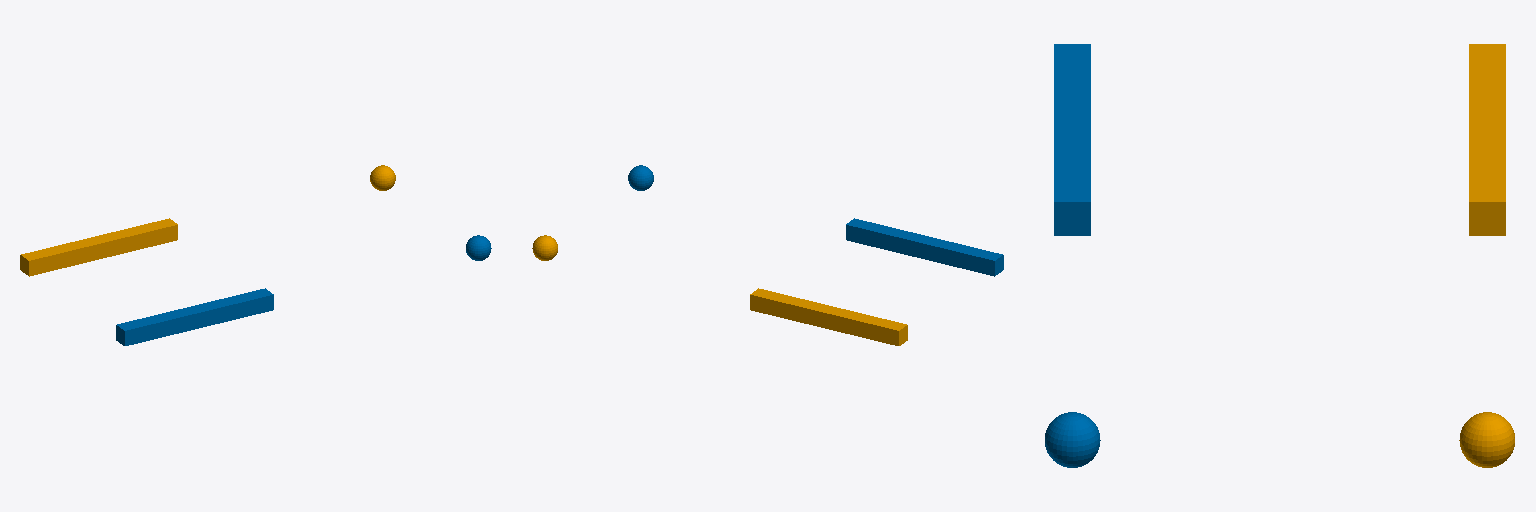
The robot description file, URDF, robot "mini_cheetah":
<?xml version="1.0" ?>
<robot name="mini_cheetah" xmlns:xacro="http://ros.org/wiki/xacro">
    <link name="body">
        <inertial>
            <mass value="3.3"/>
            <origin xyz="0.0 0.0 0.0"/>
            <inertia ixx="0.011253" ixy="0" ixz="0" iyy="0.036203" iyz="0" izz="0.042673"/>
        </inertial>
        <visual>
            <geometry>
                <mesh filename="meshes/mini_body.obj"/>
            </geometry>
            <origin rpy="0.0 0.0 0.0" xyz="0.0 0.0 0.0"/>
        </visual>
        <collision>
            <geometry>
                <mesh filename="meshes/mini_body.obj"/>
            </geometry>
            <origin rpy="0 0 0" xyz="0 0 0"/>
        </collision>
    </link>

    <!--!!!!!!!!!!!! Front Right Leg !!!!!!!!!!!!!!!!!!!!!!!!!!!!!!!!!!!!-->
    <joint name="torso_to_abduct_fr_j" type="continuous">
        <axis xyz="1 0 0"/>
        <origin rpy="0 0 0" xyz="0.19 -0.049 0.0"/>
        <parent link="body"/>
        <child link="abduct_fr"/>
    </joint>
    <link name="abduct_fr">
        <inertial>
            <mass value="0.54"/>
            <origin xyz="0.0 0.036 0."/>
            <inertia ixx="0.000381" ixy="0.000058" ixz="0.00000045" 
                iyy="0.000560" iyz="0.00000095" izz="0.000444"/>
        </inertial>
        <visual>
            <geometry>
                <mesh filename="meshes/mini_abad.obj"/>
            </geometry>
            <origin rpy="3.141592 0.0 1.5708" xyz="-0.055 0.0 0.0"/>
        </visual>
        <collision>
            <geometry>
                <mesh filename="meshes/mini_abad.obj"/>
            </geometry>
            <origin rpy="3.141592 0 1.5708" xyz="-0.055 0 0"/>
        </collision>
    </link>

    <joint name="abduct_fr_to_thigh_fr_j" type="continuous">
        <axis xyz="0 -1 0"/>
        <origin rpy="0.0 0.0 0.0" xyz="0.0 -0.062 0.00"/>
        <parent link="abduct_fr"/>
        <child link="thigh_fr"/>
    </joint>
    <link name="thigh_fr">
        <inertial>
            <mass value="0.634"/>
            <origin xyz="0.0 0.016 -0.02"/>
            <inertia ixx="0.001983" ixy="0.000245" ixz="0.000013" 
                iyy="0.002103" iyz="0.0000015" izz="0.000408"/>
        </inertial>
        <visual>
            <geometry>
                <mesh filename="meshes/mini_upper_link.obj"/>
            </geometry>
            <origin rpy="0.0 -1.5708 0.0" xyz="0.0 0.0 0.0"/>
        </visual>
        <collision>
            <geometry>
                <mesh filename="meshes/mini_upper_link.obj"/>
            </geometry>
            <origin rpy="0 -1.5708 0" xyz="0 0 0"/>
        </collision>
    </link>

    <joint name="thigh_fr_to_knee_fr_j" type="continuous">
        <axis xyz="0 -1 0"/>
        <origin rpy="0.0 0 0.0" xyz="0.0 0.0 -0.209"/>
        <parent link="thigh_fr"/>
        <child link="shank_fr"/>
    </joint>
    <link name="shank_fr">
        <inertial>
            <mass value="0.064"/>
            <origin xyz="0.0 0.0 -0.209"/>
            <inertia ixx="0.000245" ixy="0" ixz="0.0" iyy="0.000248" iyz="0" izz="0.000006"/>
        </inertial>
        <visual>
            <geometry>
                <mesh filename="meshes/mini_lower_link.obj"/>
            </geometry>
            <origin rpy="0.0 3.141592 0.0" xyz="0.0 0.0 0.0"/>
        </visual>
        <collision>
            <geometry>
                <mesh filename="meshes/mini_lower_link.obj"/>
            </geometry>
            <origin rpy="0 3.141592 0" xyz="0 0 0"/>
        </collision>
    </link>
    <link name="toe_fr">
    <contact>
      <friction_anchor/>
      <stiffness value="30000.0"/>
      <damping value="1000.0"/>
      <spinning_friction value="0.3"/>
      <lateral_friction value="3.0"/>
    </contact>
    <visual>
      <origin rpy="0 0 0" xyz="0 0 0"/>
      <geometry>
        <sphere radius="0.015"/>
      </geometry>
      <material name="darkgray"/>
    </visual>
    <collision>
      <origin rpy="0 0 0" xyz="0 0 0"/>
      <geometry>
        <sphere radius="0.015"/>
      </geometry>
    </collision>
    <inertial>
      <mass value="0.15"/>
      <inertia ixx="0.000025" ixy="0" ixz="0" iyy="0.000025" iyz="0" izz="0.000025"/>
    </inertial>
  </link>
  <joint name="toe_fr_joint" type="fixed">
    <parent link="shank_fr"/>
    <child link="toe_fr"/>
    <origin xyz="0 0 -0.18"/>
    <dynamics damping="0.0" friction="0.0"/>
  </joint>

 
<!--!!!!!!!!!!!! Front Left Leg !!!!!!!!!!!!!!!!!!!!!!!!!!!!!!!!!!!!-->
    <joint name="torso_to_abduct_fl_j" type="continuous">
        <axis xyz="1 0 0"/>
        <origin rpy="0 0 0" xyz="0.19 0.049 0.0"/>
        <parent link="body"/>
        <child link="abduct_fl"/>
    </joint>
    <link name="abduct_fl">
        <inertial>
            <mass value="0.54"/>
            <origin xyz="0.0 0.036 0."/>
            <inertia ixx="0.000381" ixy="0.000058" ixz="0.00000045" 
                iyy="0.000560" iyz="0.00000095" izz="0.000444"/>
        </inertial>
        <visual>
            <geometry>
                <mesh filename="meshes/mini_abad.obj"/>
            </geometry>
            <origin rpy="0. 0. -1.5708" xyz="-0.055 0.0 0.0"/>
        </visual>
        <collision>
            <geometry>
                <mesh filename="meshes/mini_abad.obj"/>
            </geometry>
            <origin rpy="0 0 -1.5708" xyz="-0.055 0 0"/>
        </collision>
    </link>

    <joint name="abduct_fl_to_thigh_fl_j" type="continuous">
        <axis xyz="0 -1 0"/>
        <origin rpy="0.0 0.0 0.0" xyz="0.0 0.062 0.00"/>
        <parent link="abduct_fl"/>
        <child link="thigh_fl"/>
    </joint>
    <link name="thigh_fl">
        <inertial>
            <mass value="0.634"/>
            <origin xyz="0.0 0.016 -0.02"/>
            <inertia ixx="0.001983" ixy="0.000245" ixz="0.000013" 
                iyy="0.002103" iyz="0.0000015" izz="0.000408"/>
        </inertial>
        <visual>
            <geometry>
                <mesh filename="meshes/mini_upper_link.obj"/>
            </geometry>
            <origin rpy="0.0 -1.5708 0.0" xyz="0.0 0.0 0.0"/>
        </visual>
        <collision>
            <geometry>
                <mesh filename="meshes/mini_upper_link.obj"/>
            </geometry>
            <origin rpy="0 -1.5708 0" xyz="0 0 0"/>
        </collision>
    </link>

    <joint name="thigh_fl_to_knee_fl_j" type="continuous">
        <axis xyz="0 -1 0"/>
        <origin rpy="0.0 0 0.0" xyz="0.0 0.0 -0.209"/>
        <parent link="thigh_fl"/>
        <child link="shank_fl"/>
    </joint>
    <link name="shank_fl">
        <inertial>
            <mass value="0.064"/>
            <origin xyz="0.0 0.0 -0.209"/>
            <inertia ixx="0.000245" ixy="0" ixz="0.0" iyy="0.000248" iyz="0" izz="0.000006"/>
        </inertial>
        <visual>
            <geometry>
                <mesh filename="meshes/mini_lower_link.obj"/>
            </geometry>
            <origin rpy="0.0 3.141592 0.0" xyz="0.0 0.0 0.0"/>
        </visual>
        <collision>
            <geometry>
                <mesh filename="meshes/mini_lower_link.obj"/>
            </geometry>
            <origin rpy="0 3.141592 0" xyz="0 0 0"/>
        </collision>
    </link>
    <link name="toe_fl">
      <contact>
      <friction_anchor/>
      <stiffness value="30000.0"/>
      <damping value="1000.0"/>
      <spinning_friction value="0.3"/>
      <lateral_friction value="3.0"/>
    </contact>
    <visual>
      <origin rpy="0 0 0" xyz="0 0 0"/>
      <geometry>
        <sphere radius="0.015"/>
      </geometry>
      <material name="darkgray"/>
    </visual>
    <collision>
      <origin rpy="0 0 0" xyz="0 0 0"/>
      <geometry>
        <sphere radius="0.015"/>
      </geometry>
    </collision>
    <inertial>
      <mass value="0.15"/>
      <inertia ixx="0.000025" ixy="0" ixz="0" iyy="0.000025" iyz="0" izz="0.000025"/>
    </inertial>
  </link>
  <joint name="toe_fl_joint" type="fixed">
    <parent link="shank_fl"/>
    <child link="toe_fl"/>
    <origin xyz="0 0 -0.18"/>
    <dynamics damping="0.0" friction="0.0"/>
  </joint>


<!--!!!!!!!!!!!! Hind Right Leg !!!!!!!!!!!!!!!!!!!!!!!!!!!!!!!!!!!!-->
    <joint name="torso_to_abduct_hr_j" type="continuous">
        <axis xyz="1 0 0"/>
        <origin rpy="0 0 0" xyz="-0.19 -0.049 0.0"/>
        <parent link="body"/>
        <child link="abduct_hr"/>
    </joint>
    <link name="abduct_hr">
        <inertial>
            <mass value="0.54"/>
            <origin xyz="0.0 0.036 0."/>
            <inertia ixx="0.000381" ixy="0.000058" ixz="0.00000045" 
                iyy="0.000560" iyz="0.00000095" izz="0.000444"/>
        </inertial>
        <visual>
            <geometry>
                <mesh filename="meshes/mini_abad.obj"/>
            </geometry>
            <origin rpy="0.0 0.0 1.5708" xyz="0.055 0.0 0.0"/>
        </visual>
        <collision>
            <geometry>
                <mesh filename="meshes/mini_abad.obj"/>
            </geometry>
            <origin rpy="0 0 1.5708" xyz="0.055 0 0"/>
        </collision>
    </link>

    <joint name="abduct_hr_to_thigh_hr_j" type="continuous">
        <axis xyz="0 -1 0"/>
        <origin rpy="0.0 0.0 0.0" xyz="0.0 -0.062 0.00"/>
        <parent link="abduct_hr"/>
        <child link="thigh_hr"/>
    </joint>
    <link name="thigh_hr">
        <inertial>
            <mass value="0.634"/>
            <origin xyz="0.0 0.016 -0.02"/>
            <inertia ixx="0.001983" ixy="0.000245" ixz="0.000013" 
                iyy="0.002103" iyz="0.0000015" izz="0.000408"/>
        </inertial>
        <visual>
            <geometry>
                <mesh filename="meshes/mini_upper_link.obj"/>
            </geometry>
            <origin rpy="0.0 -1.5708 0.0" xyz="0.0 0.0 0.0"/>
        </visual>
        <collision>
            <geometry>
                <mesh filename="meshes/mini_upper_link.obj"/>
            </geometry>
            <origin rpy="0 -1.5708 0" xyz="0 0 0"/>
        </collision>
    </link>

    <joint name="thigh_hr_to_knee_hr_j" type="continuous">
        <axis xyz="0 -1 0"/>
        <origin rpy="0.0 0 0.0" xyz="0.0 0.0 -0.209"/>
        <parent link="thigh_hr"/>
        <child link="shank_hr"/>
    </joint>
    <link name="shank_hr">
        <inertial>
            <mass value="0.064"/>
            <origin xyz="0.0 0.0 -0.209"/>
            <inertia ixx="0.000245" ixy="0" ixz="0.0" iyy="0.000248" iyz="0" izz="0.000006"/>
        </inertial>
        <visual>
            <geometry>
                <mesh filename="meshes/mini_lower_link.obj"/>
            </geometry>
            <origin rpy="0.0 3.141592 0.0" xyz="0.0 0.0 0.0"/>
        </visual>
        <collision>
            <geometry>
                <mesh filename="meshes/mini_lower_link.obj"/>
            </geometry>
            <origin rpy="0 3.141592 0" xyz="0 0 0"/>
        </collision>
    </link>
     <link name="toe_hr">
      <contact>
      <friction_anchor/>
      <stiffness value="30000.0"/>
      <damping value="1000.0"/>
      <spinning_friction value="0.3"/>
      <lateral_friction value="3.0"/>
    </contact>
    <visual>
      <origin rpy="0 0 0" xyz="0 0 0"/>
      <geometry>
        <box size="0.20 0.02 0.02"/><!-- <sphere radius="0.015"/> -->
      </geometry>
      <material name="darkgray"/>
    </visual>
    <collision>
      <origin rpy="0 0 0" xyz="0 0 0"/>
      <geometry>
        <box size="0.20 0.02 0.02"/><!-- <sphere radius="0.015"/> -->
      </geometry>
    </collision>
    <inertial>
      <mass value="0.15"/>
      <inertia ixx="0.000025" ixy="0" ixz="0" iyy="0.000025" iyz="0" izz="0.000025"/>
    </inertial>
  </link>
  <joint name="toe_hr_joint" type="fixed">
    <parent link="shank_hr"/>
    <child link="toe_hr"/>
    <origin xyz="0 0 -0.18"/>
    <dynamics damping="0.0" friction="0.0"/>
  </joint>


<!--!!!!!!!!!!!! Hind Left Leg !!!!!!!!!!!!!!!!!!!!!!!!!!!!!!!!!!!!-->
    <joint name="torso_to_abduct_hl_j" type="continuous">
        <axis xyz="1 0 0"/>
        <origin rpy="0 0 0" xyz="-0.19 0.049 0.0"/>
        <parent link="body"/>
        <child link="abduct_hl"/>
    </joint>
    <link name="abduct_hl">
        <inertial>
            <mass value="0.54"/>
            <origin xyz="0.0 0.036 0."/>
            <inertia ixx="0.000381" ixy="0.000058" ixz="0.00000045" 
                iyy="0.000560" iyz="0.00000095" izz="0.000444"/>
        </inertial>
        <visual>
            <geometry>
                <mesh filename="meshes/mini_abad.obj"/>
            </geometry>
            <origin rpy="3.141592 0.0 -1.5708" xyz="0.055 0.0 0.0"/>
        </visual>
        <collision>
            <geometry>
                <mesh filename="meshes/mini_abad.obj"/>
            </geometry>
            <origin rpy="3.141592 0 -1.5708" xyz="0.055 0 0"/>
        </collision>
    </link>

    <joint name="abduct_hl_to_thigh_hl_j" type="continuous">
        <axis xyz="0 -1 0"/>
        <origin rpy="0.0 0.0 0.0" xyz="0.0 0.062 0.00"/>
        <parent link="abduct_hl"/>
        <child link="thigh_hl"/>
    </joint>
    <link name="thigh_hl">
        <inertial>
            <mass value="0.634"/>
            <origin xyz="0.0 0.016 -0.02"/>
            <inertia ixx="0.001983" ixy="0.000245" ixz="0.000013" 
                iyy="0.002103" iyz="0.0000015" izz="0.000408"/>
        </inertial>
        <visual>
            <geometry>
                <mesh filename="meshes/mini_upper_link.obj"/>
            </geometry>
            <origin rpy="0.0 -1.5708 0.0" xyz="0.0 0.0 0.0"/>
        </visual>
        <collision>
            <geometry>
                <mesh filename="meshes/mini_upper_link.obj"/>
            </geometry>
            <origin rpy="0 -1.5708 0" xyz="0 0 0"/>
        </collision>
    </link>

    <joint name="thigh_hl_to_knee_hl_j" type="continuous">
        <axis xyz="0 -1 0"/>
        <origin rpy="0.0 0 0.0" xyz="0.0 0.0 -0.209"/>
        <parent link="thigh_hl"/>
        <child link="shank_hl"/>
    </joint>
    <link name="shank_hl">
        <inertial>
            <mass value="0.064"/>
            <origin xyz="0.0 0.0 -0.209"/>
            <inertia ixx="0.000245" ixy="0" ixz="0.0" iyy="0.000248" iyz="0" izz="0.000006"/>
        </inertial>
        <visual>
            <geometry>
                <mesh filename="meshes/mini_lower_link.obj"/>
            </geometry>
            <origin rpy="0.0 3.141592 0.0" xyz="0.0 0.0 0.0"/>
        </visual>
        <collision>
            <geometry>
                <mesh filename="meshes/mini_lower_link.obj"/>
            </geometry>
            <origin rpy="0 3.141592 0" xyz="0 0 0"/>
        </collision>
    </link>
    <link name="toe_hl">
      <contact>
      <friction_anchor/>
      <stiffness value="30000.0"/>
      <damping value="1000.0"/>
      <spinning_friction value="0.3"/>
      <lateral_friction value="3.0"/>
    </contact>
    <visual>
      <origin rpy="0 0 0" xyz="0 0 0"/>
      <geometry>
        <box size="0.20 0.02 0.02"/><!-- <sphere radius="0.015"/> -->
      </geometry>
      <material name="darkgray"/>
    </visual>
    <collision>
      <origin rpy="0 0 0" xyz="0 0 0"/>
      <geometry>
        <box size="0.20 0.02 0.02"/><!-- <sphere radius="0.015"/> -->
      </geometry>
    </collision>
    <inertial>
      <mass value="0.15"/>
      <inertia ixx="0.000025" ixy="0" ixz="0" iyy="0.000025" iyz="0" izz="0.000025"/>
    </inertial>
  </link>
  <joint name="toe_hl_joint" type="fixed">
    <parent link="shank_hl"/>
    <child link="toe_hl"/>
    <origin xyz="0 0 -0.18"/>
    <dynamics damping="0.0" friction="0.0"/>
  </joint>



</robot>

--- Render facts (derived) ---
Views: 3 orthographic renders of the robot side by side, from view 1: azimuth 30°, elevation 25°; view 2: azimuth 150°, elevation 25°; view 3: azimuth 270°, elevation 25°.
Model mini_cheetah with 17 links and 16 joints (12 continuous, 4 fixed), rooted at body, posed all joints at 0.
Visible links, largest first — view 1: toe_hr, toe_hl; view 2: toe_hl, toe_hr; view 3: toe_hr, toe_hl, toe_fr, toe_fl.
Link boxes in pixels (bbox=[...]): toe_hr: bbox=[116, 288, 273, 345]; toe_hl: bbox=[20, 218, 177, 276]; toe_hl: bbox=[750, 288, 907, 345]; toe_hr: bbox=[846, 218, 1003, 276]; toe_hr: bbox=[1054, 44, 1090, 235]; toe_hl: bbox=[1469, 44, 1505, 235]; toe_fr: bbox=[1045, 412, 1100, 467]; toe_fl: bbox=[1459, 412, 1514, 467].
Bounding box of the posed robot: 0.495 × 0.252 × 0.03 m (x, y, z).
Meshes: 4 distinct files referenced, 0 mesh visuals loaded (none loaded); not drawn: 13 (reference not matched to a file when rendering).